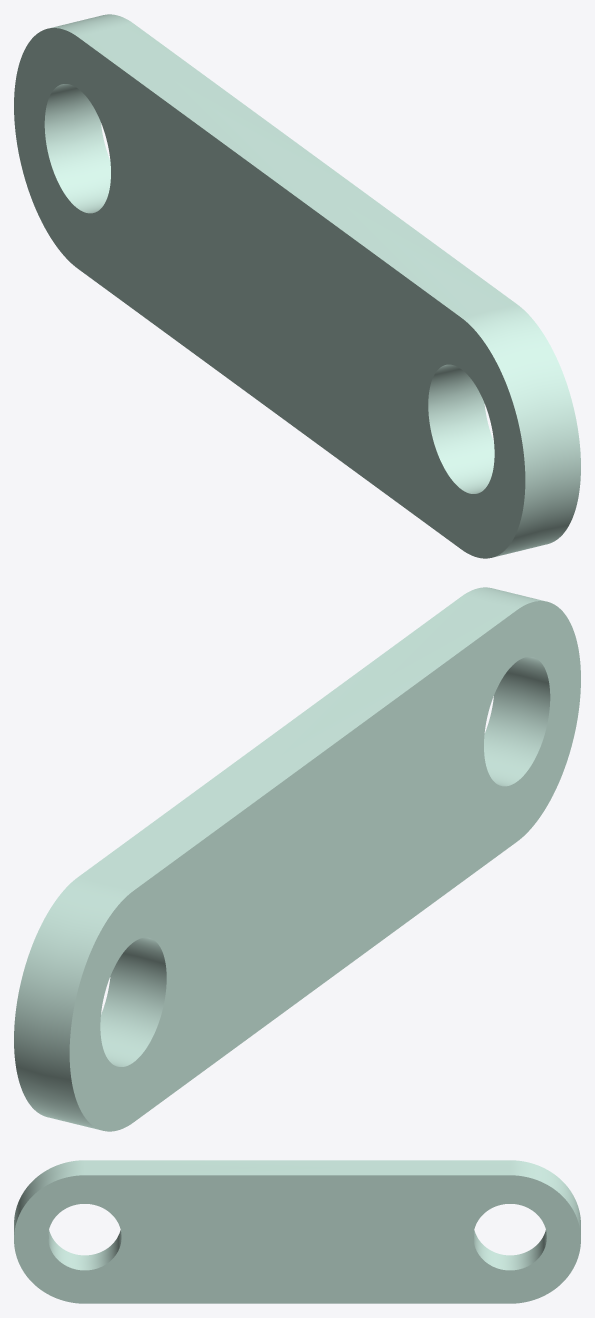
The picture shows the model from 3 angles, top to bottom: view 1: azimuth 30°, elevation 25°; view 2: azimuth 150°, elevation 25°; view 3: azimuth 270°, elevation 25°; orthographic projection. The views are drawn at different scales.
Visible parts, largest first — view 1: Renderer Node; view 2: Renderer Node; view 3: Renderer Node.
Part boxes in pixels (x1,y1,x2,y2): Renderer Node: [14, 14, 580, 558]; Renderer Node: [14, 587, 580, 1131]; Renderer Node: [14, 1160, 580, 1303].
Bounding box in the file's own units: 0.0938 × 0.373 × 1.49.
